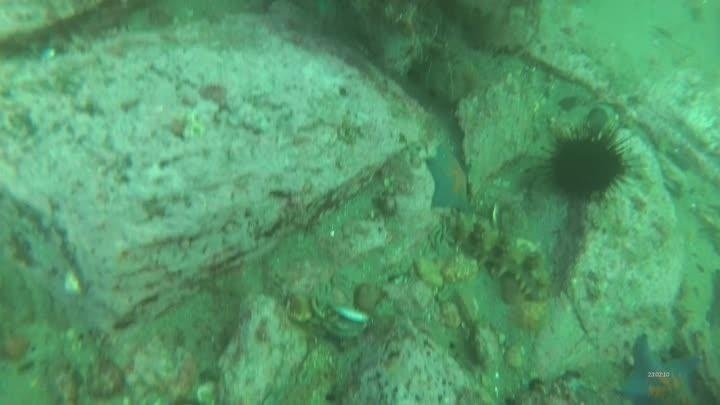echinus: (542, 125, 634, 204)
holothurian: (462, 217, 556, 303)
starfish: (614, 333, 706, 403), (422, 144, 474, 215)
